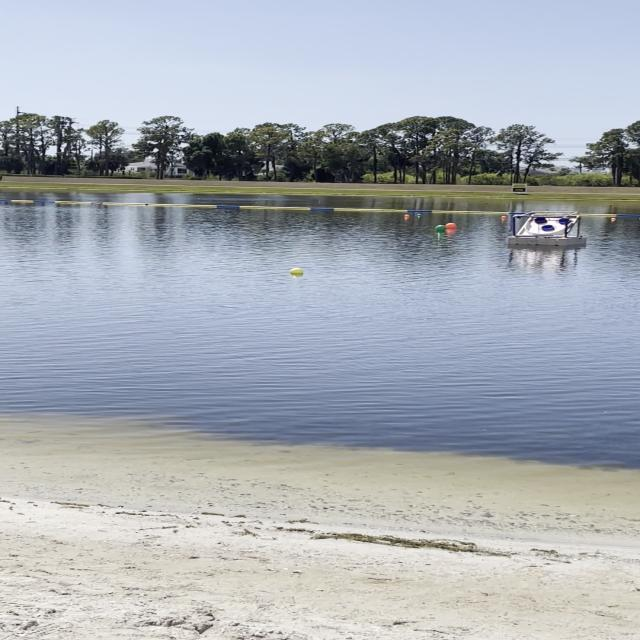buoy: (285, 266, 310, 277), (446, 220, 458, 232), (434, 224, 448, 232)
